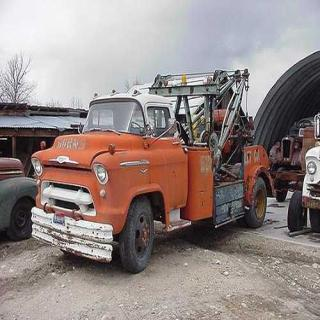Towing_truck: (28, 66, 273, 274)
